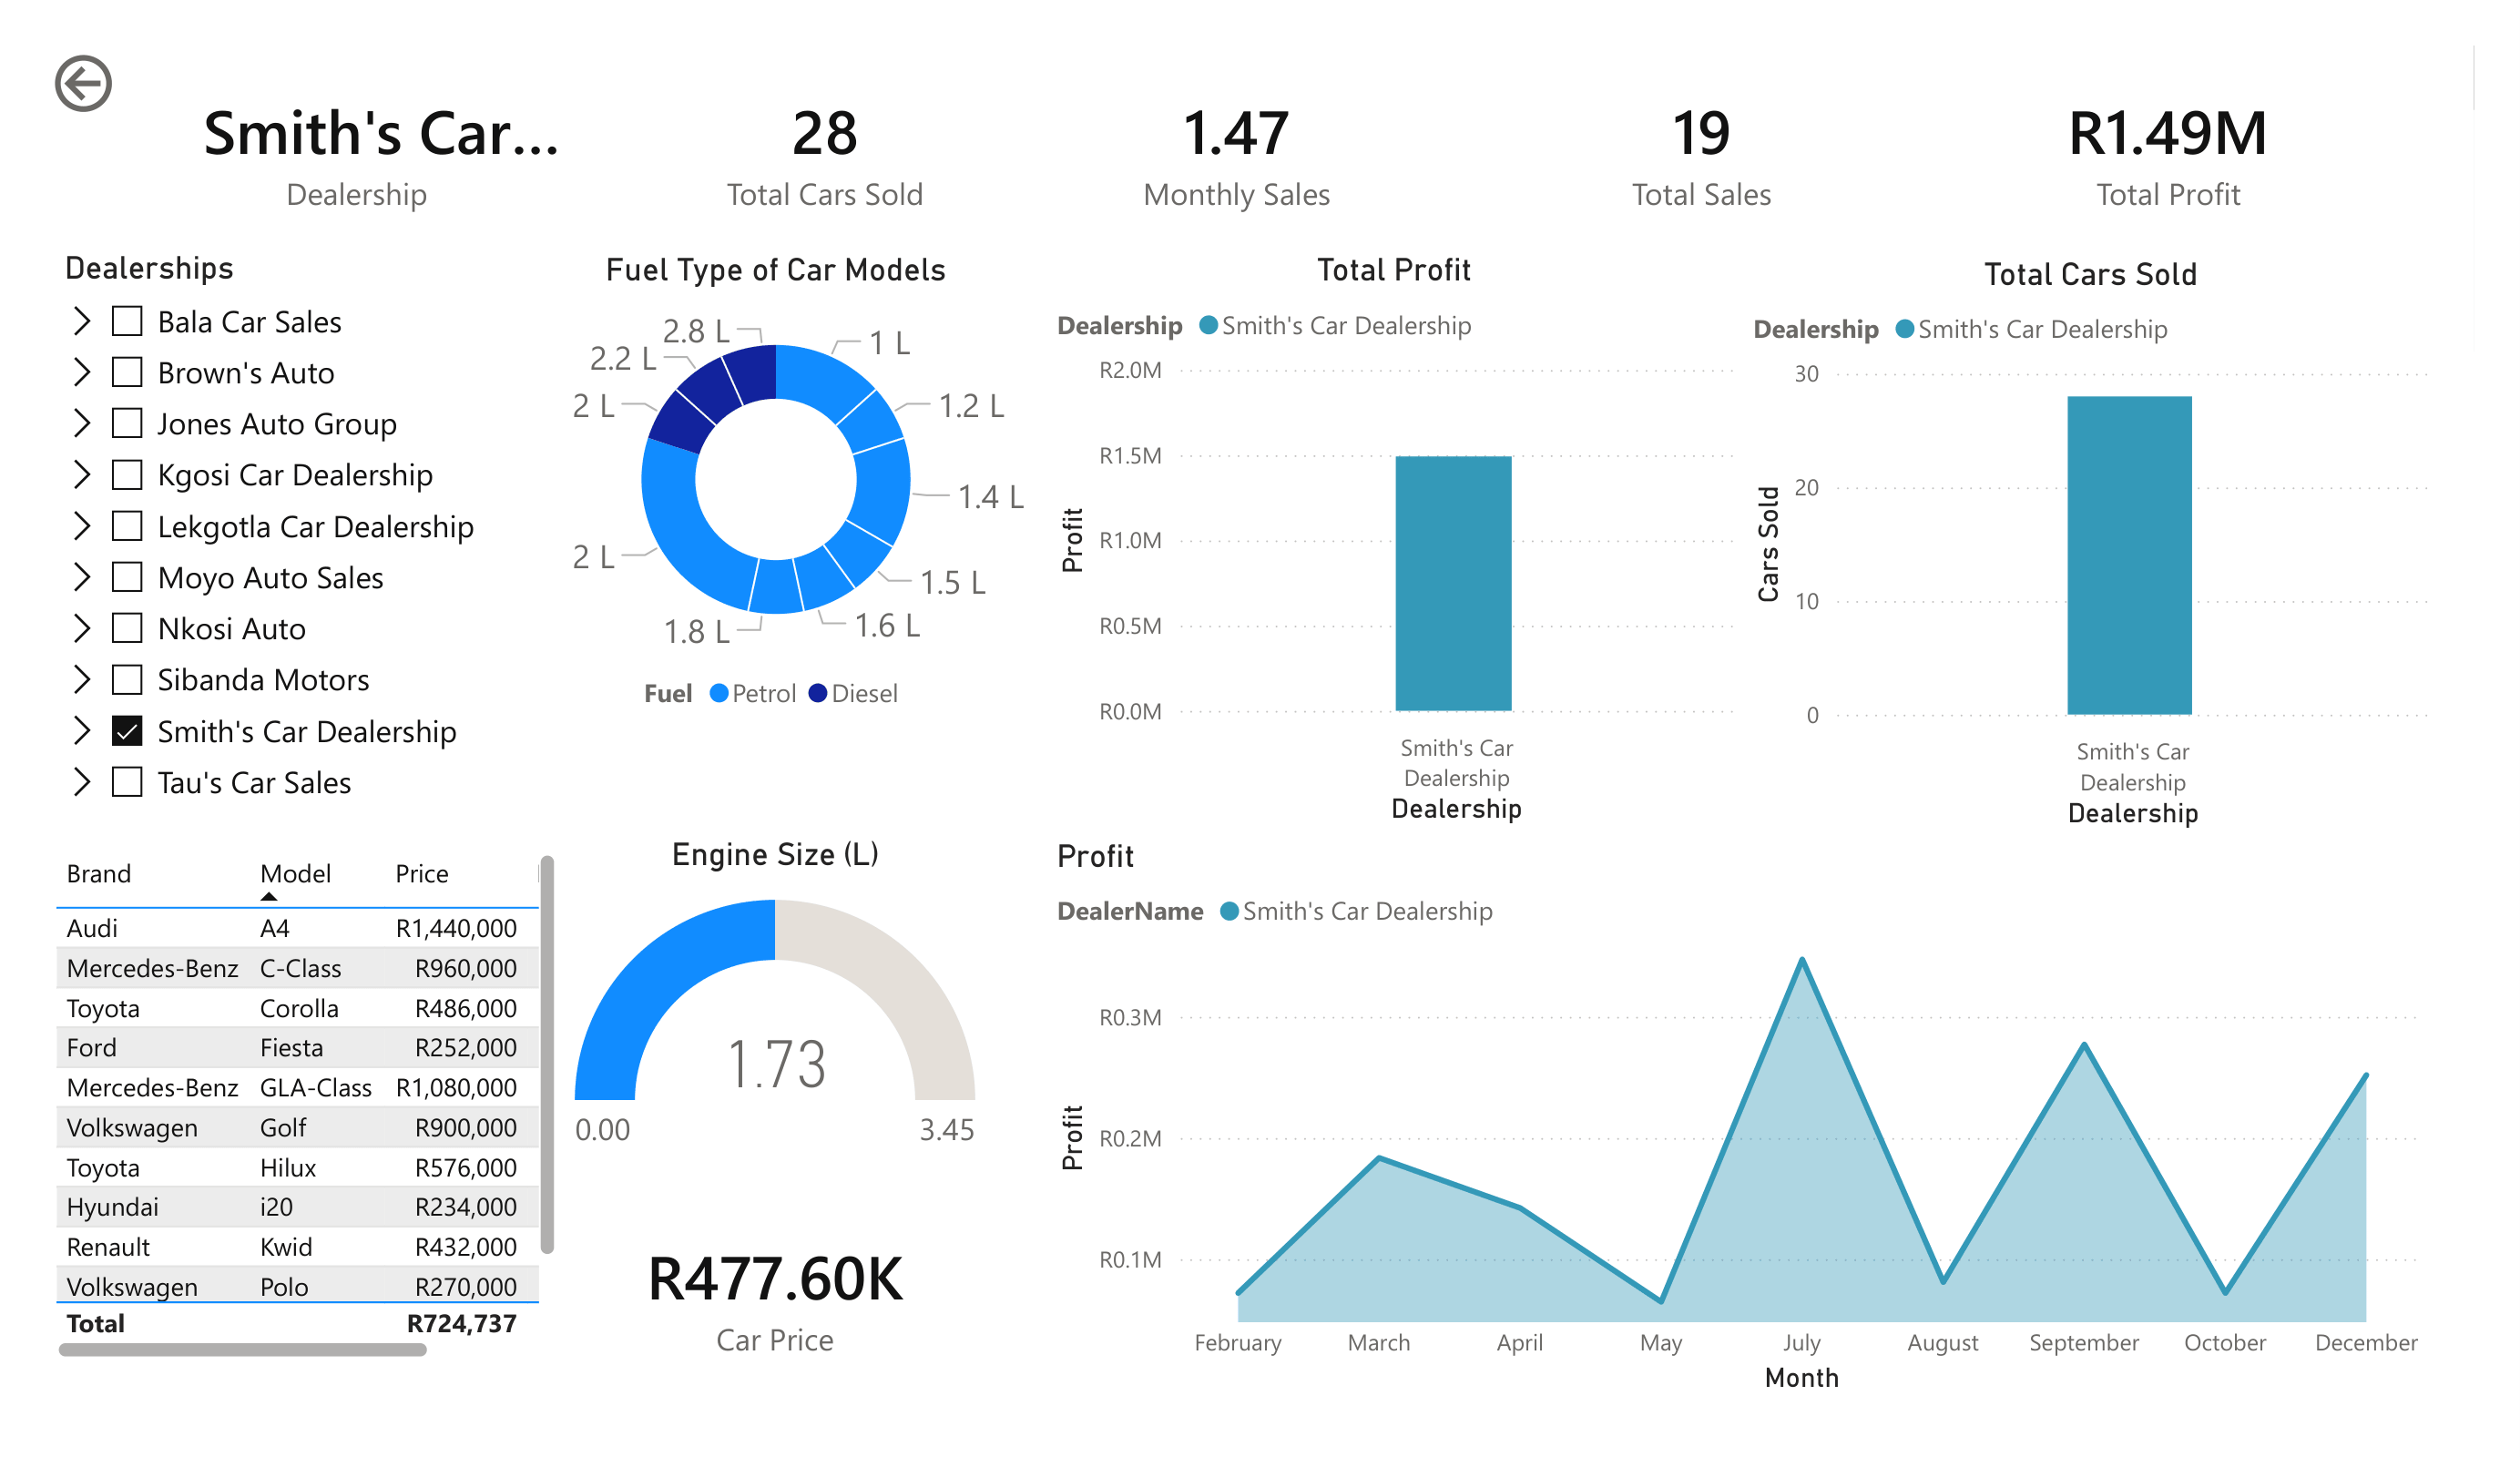

The dashboard page shown, as its layout file describes it:
{"tool":"powerbi","page":{"name":"Page 1","canvas":[1280,720],"ordinal":0},"visuals":[{"type":"cardVisual","fields":{"Data":["CountNonNull(Sales.Quantity)"]},"box":[801.4,0,144.1,109.8],"z":0},{"type":"cardVisual","fields":{"Data":["Sum(Sales.Quantity)"]},"box":[327.7,0,166.3,110.1],"z":1000},{"type":"cardVisual","fields":{"Data":["Sum(Sales.Total Profit (ZAR))"]},"box":[1012.7,0,212.7,109.8],"z":2000},{"type":"tableEx","fields":{"Values":["Models.Brand","Models.Model","Models.Price (ZAR)"]},"box":[9.6,362.3,262.1,355.4],"z":3000},{"type":"cardVisual","fields":{"Data":["Avg(Sales.Quantity)"]},"box":[548.9,0,157.8,109.8],"z":4000},{"type":"cardVisual","fields":{"Data":["Min(Dealers.DealerName)"]},"box":[23.2,0,265.4,110.1],"z":5000},{"type":"donutChart","title":"Fuel Type of Car Models","fields":{"Category":["Models.Fuel"],"Y":["CountNonNull(Models.Fuel)"],"Series":["Models.Engine Sizes (L)"]},"box":[242.1,107.6,286.1,251.9],"z":6000},{"type":"tableEx","fields":{"Values":["Dealers.DealerID","Dealers.DealerName"]},"box":[9.8,99,232.3,249.5],"z":7000},{"type":"gauge","fields":{"Y":["Avg(Models.EngineSize (L))"]},"box":[273.9,414.5,221.3,187.1],"z":8000},{"type":"columnChart","title":"Total Profit","fields":{"Category":["Dealers.DealerName","Sales.Date.Variation.Date Hierarchy.Month","Dealers.City","Models.Brand","Models.Model"],"Y":["Sum(Sales.Total Profit (ZAR))"],"Series":["Dealers.DealerName"]},"box":[528.3,107.6,365.6,306.9],"z":9000},{"type":"columnChart","title":"Total Cars Sold","fields":{"Category":["Dealers.DealerName","Dealers.City","Models.Segment","Models.Model"],"Y":["Sum(Sales.Quantity)"],"Series":["Dealers.DealerName"]},"box":[894.7,109.8,366.4,307.4],"z":10000},{"type":"actionButton","box":[0,0,100,40],"z":11000},{"type":"lineChart","title":"Monthly Profit (ZAR)","fields":{"Category":["Sales.Date.Variation.Date Hierarchy.Month","Dealers.Country","Dealers.City"],"Series":["Dealers.DealerName"],"Y":["Avg(Sales.Total Profit (ZAR))"]},"box":[528.3,417.2,731.4,303.3],"z":12000},{"type":"cardVisual","fields":{"Data":["Avg(Models.Price (ZAR))"]},"box":[271.5,584.5,216.4,135.7],"z":13000}]}

Visuals, with their boxes on the page's 1280x720 design canvas (x1, y1, x2, y2). These are canvas units, not pixel positions in the 2520x1457 screenshot, which may show the page scaled, cropped or inside an application window:
cardVisual - CountNonNull(Sales.Quantity): <bbox>801, 0, 946, 110</bbox>
cardVisual - Sum(Sales.Quantity): <bbox>328, 0, 494, 110</bbox>
cardVisual - Sum(Sales.Total Profit (ZAR)): <bbox>1013, 0, 1225, 110</bbox>
tableEx - Models.Brand x Models.Model: <bbox>10, 362, 272, 718</bbox>
cardVisual - Avg(Sales.Quantity): <bbox>549, 0, 707, 110</bbox>
cardVisual - Min(Dealers.DealerName): <bbox>23, 0, 289, 110</bbox>
"Fuel Type of Car Models" donutChart: <bbox>242, 108, 528, 360</bbox>
tableEx - Dealers.DealerID x Dealers.DealerName: <bbox>10, 99, 242, 348</bbox>
gauge - Avg(Models.EngineSize (L)): <bbox>274, 414, 495, 602</bbox>
"Total Profit" columnChart: <bbox>528, 108, 894, 414</bbox>
"Total Cars Sold" columnChart: <bbox>895, 110, 1261, 417</bbox>
actionButton: <bbox>0, 0, 100, 40</bbox>
"Monthly Profit (ZAR)" lineChart: <bbox>528, 417, 1260, 720</bbox>
cardVisual - Avg(Models.Price (ZAR)): <bbox>272, 584, 488, 720</bbox>
